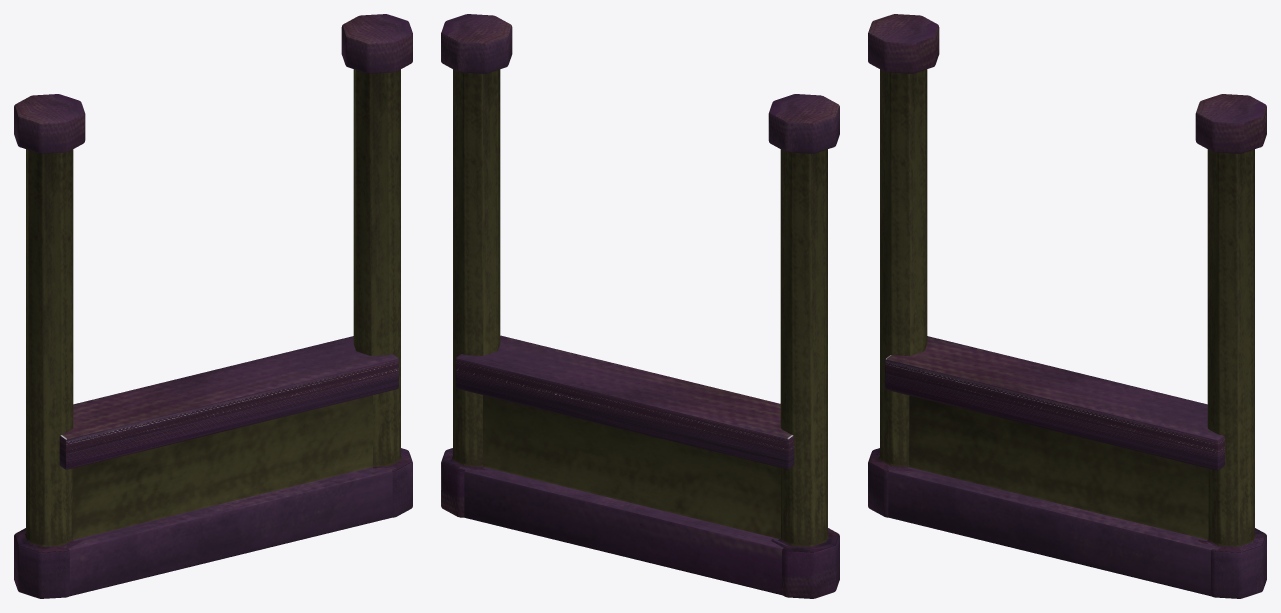
The model's file is MANOR_WALL_2_1.obj.
3 views of the same model, side by side, from view 1: azimuth 30°, elevation 25°; view 2: azimuth 150°, elevation 25°; view 3: azimuth 330°, elevation 25° (orthographic).
Parts seen in each view (by area): view 1: MANOR_WALL_2_1.003; view 2: MANOR_WALL_2_1.003; view 3: MANOR_WALL_2_1.003.
Boxes of the visible parts, x1=… form: MANOR_WALL_2_1.003: x1=14, y1=14, x2=412, y2=598; MANOR_WALL_2_1.003: x1=441, y1=14, x2=839, y2=598; MANOR_WALL_2_1.003: x1=868, y1=14, x2=1266, y2=598.
Bounding box in the file's own units: 2.57 × 3 × 0.4135.
